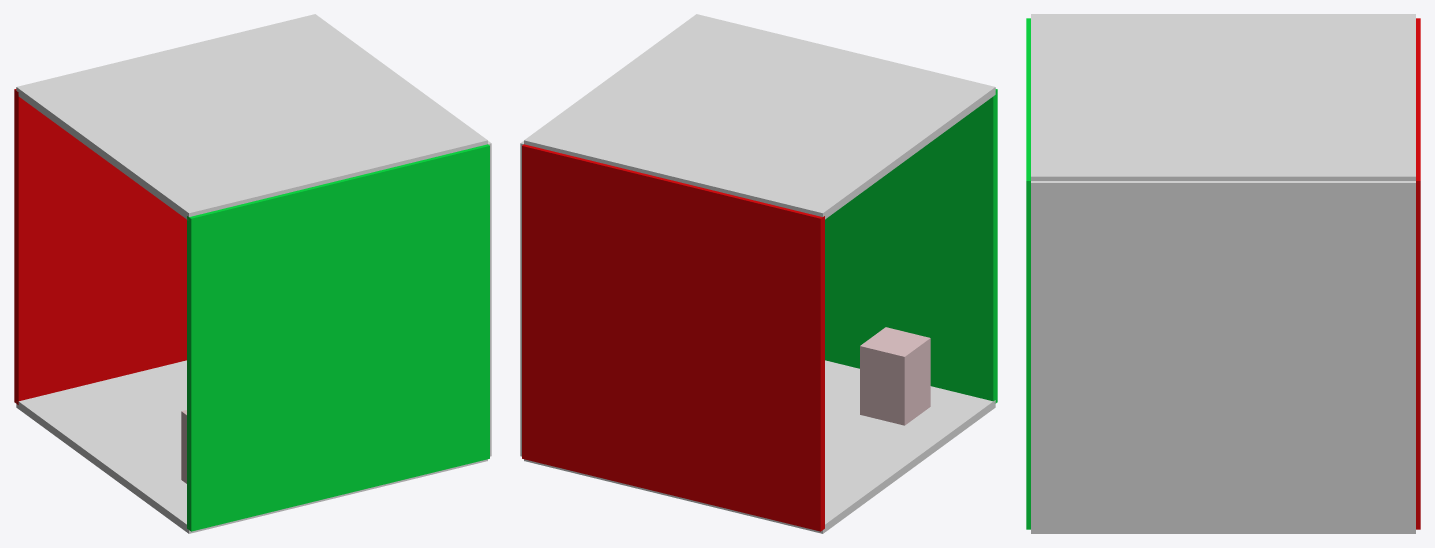
3 renders of one model, left to right at view 1: azimuth 30°, elevation 25°; view 2: azimuth 150°, elevation 25°; view 3: azimuth 270°, elevation 25°, orthographic. The views are drawn at different scales.
Parts seen in each view (by area): view 1: Cube.003, Cube.004, Cube.001, Cube, Cube.002; view 2: Cube.001, Cube.004, Cube.003, Cube, Cube.006, Cube.002; view 3: Cube.002, Cube.004, Cube.001, Cube.003, Cube.
Part boxes in pixels (x1,y1,x2,y2): Cube.003: [187, 144, 489, 531]; Cube.004: [16, 14, 487, 219]; Cube.001: [14, 89, 186, 404]; Cube: [16, 360, 487, 533]; Cube.002: [488, 141, 491, 456]; Cube.001: [522, 144, 824, 531]; Cube.004: [524, 14, 995, 219]; Cube.003: [825, 89, 997, 403]; Cube: [524, 360, 995, 533]; Cube.006: [860, 327, 930, 425]; Cube.002: [520, 141, 523, 456]; Cube.002: [1031, 181, 1415, 531]; Cube.004: [1031, 14, 1415, 180]; Cube.001: [1416, 18, 1420, 529]; Cube.003: [1026, 18, 1030, 529]; Cube: [1031, 531, 1415, 533].
Bounding box in the file's own units: 8.1 × 8.2 × 8.2.
